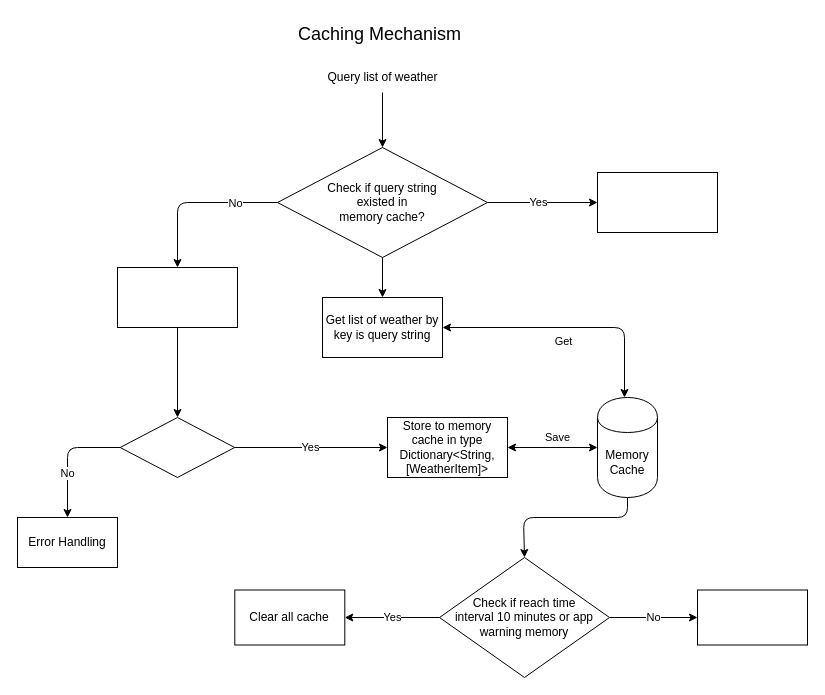
Image size: 825x695. Some labels were removed from this diagram. Each missing label, with the centre of its shape:
Call request to OpenWeatherMaps API server: point 177,297
Do nothing: point 752,617
Return list of weather by query string and display to UI: point 657,202
Succeeded?: point 177,447
